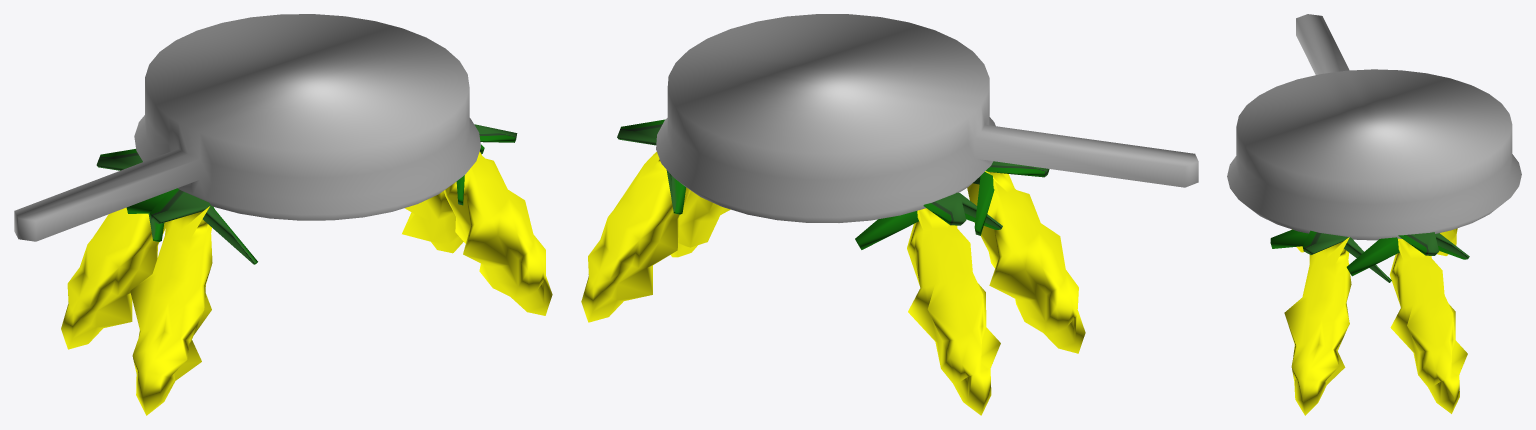
Rendered from item-corn-pot.glb.
3 views of the same model, side by side, from view 1: azimuth 30°, elevation 25°; view 2: azimuth 150°, elevation 25°; view 3: azimuth 270°, elevation 25° (orthographic). The views are drawn at different scales.
Size of the model in its own units: 1.43 by 0.646 by 0.8231.
3 materials, 1 textured.
